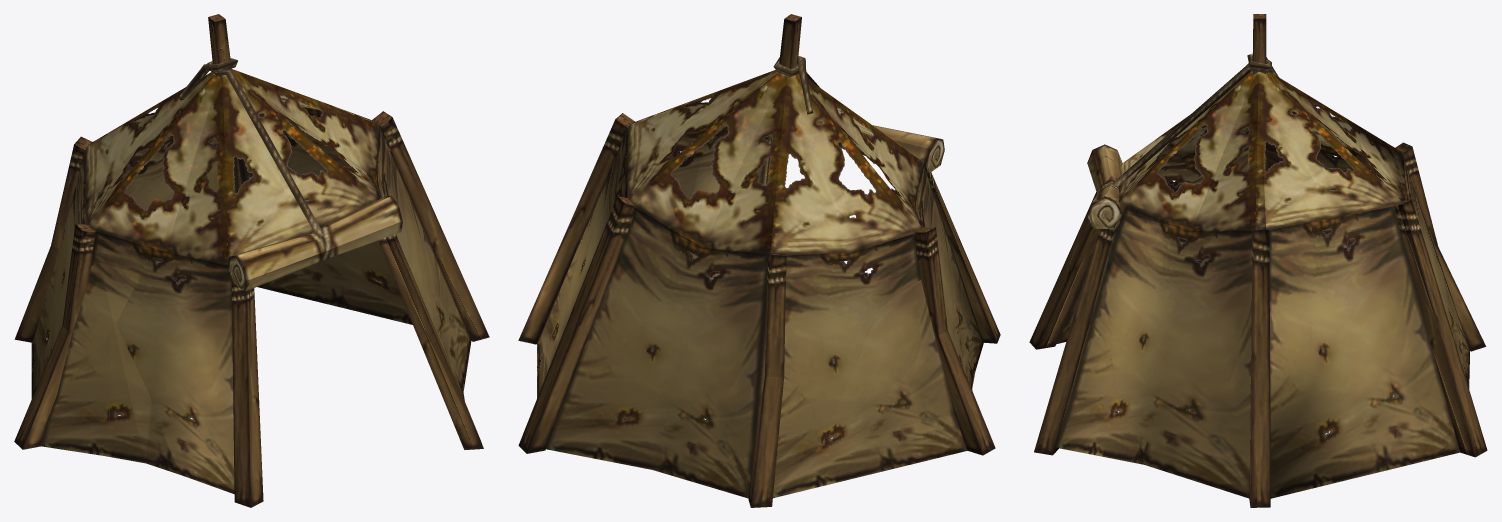
The model's file is 2_YiZhan_HuoZhangPeng_01.FBX.
3 renders of one model, left to right at view 1: azimuth 30°, elevation 25°; view 2: azimuth 150°, elevation 25°; view 3: azimuth 270°, elevation 25°, orthographic. The views are drawn at different scales.
Parts seen in each view (by area): view 1: 2_YiZhan_HuoZhangPeng_01; view 2: 2_YiZhan_HuoZhangPeng_01; view 3: 2_YiZhan_HuoZhangPeng_01.
Boxes of the visible parts, x1=… form: 2_YiZhan_HuoZhangPeng_01: x1=14, y1=14, x2=489, y2=507; 2_YiZhan_HuoZhangPeng_01: x1=518, y1=14, x2=1000, y2=507; 2_YiZhan_HuoZhangPeng_01: x1=1029, y1=14, x2=1487, y2=507.
Size of the model in its own units: 866 by 678 by 768.
